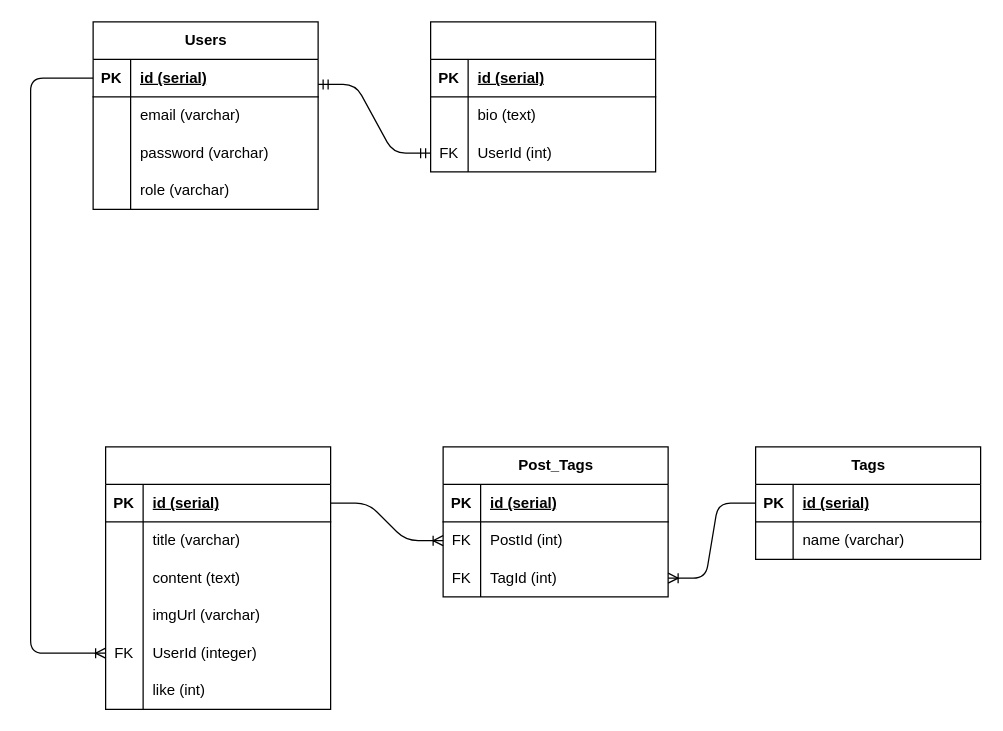
This 1003x731 diagram has some shape labels left out. Here are the shapes that lost their labels. From the top down, the box of each, then its label:
(429, 21, 656, 172): UserProfiles
(104, 446, 331, 709): Posts
